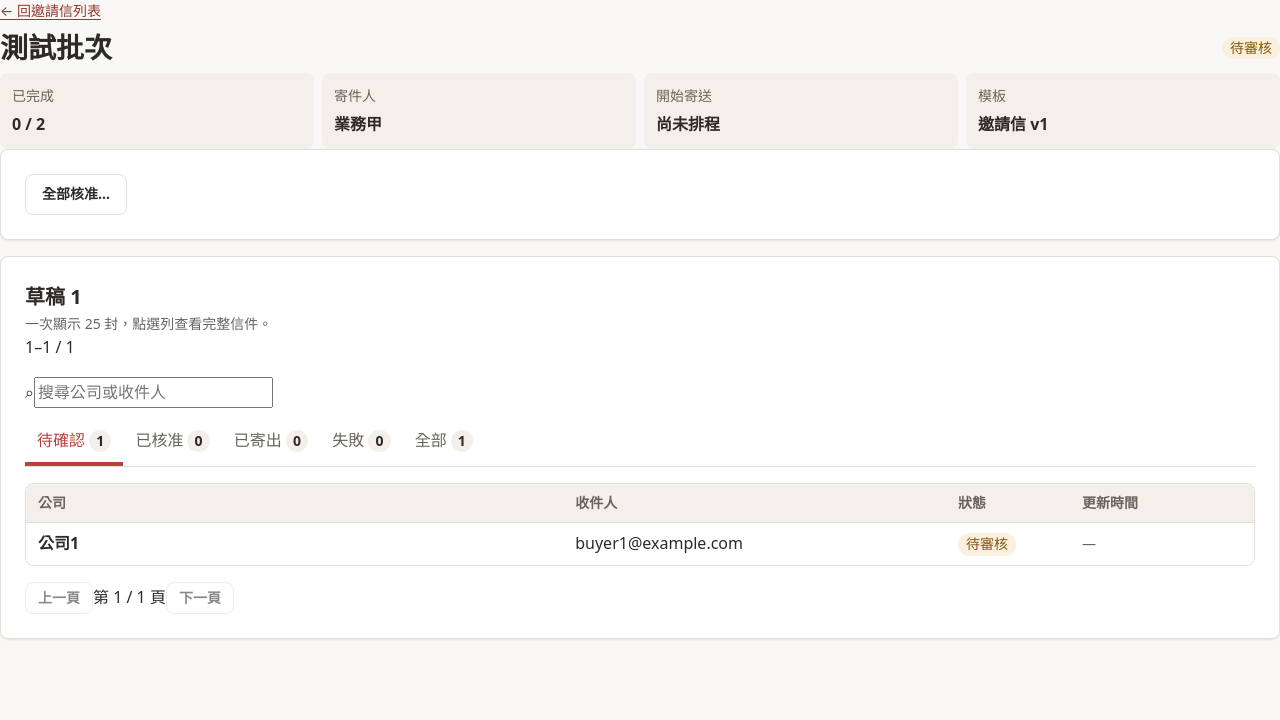
Scenario: M4-06k 預覽佇列顯示 AI 資訊 › test_m4_06k_review_shows_model_and_prompt_version：AI 草稿顯示模型與提示詞版本，並提醒核對事實
This screenshot has width=1280, height=720.
Click the row "公司1 buyer1@example.com 待審核 —": point(640, 544) [26, 522, 1254, 565]
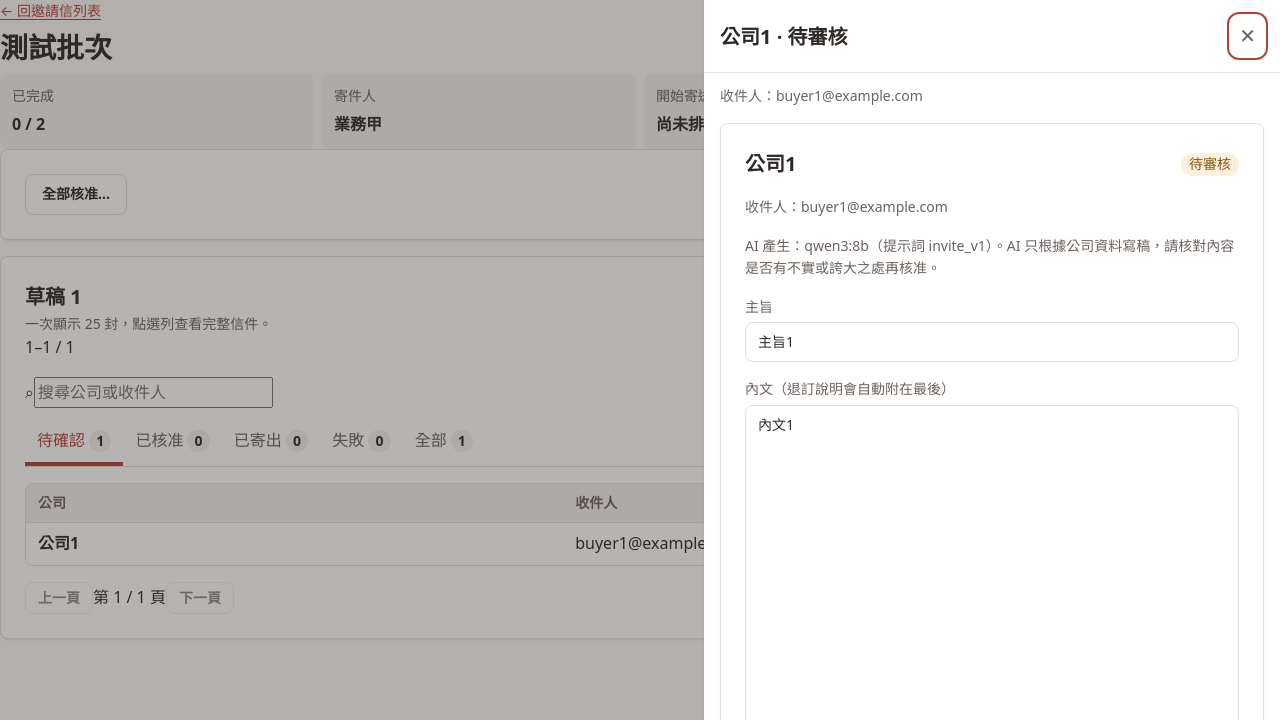
Now the text "AI 產生：qwen3:8b（提示詞 invite_v1）" is shown, box [745, 235, 1239, 280]
Now the text "請核對內容是否有不實或誇大之處" is shown, box [745, 236, 1234, 277]
